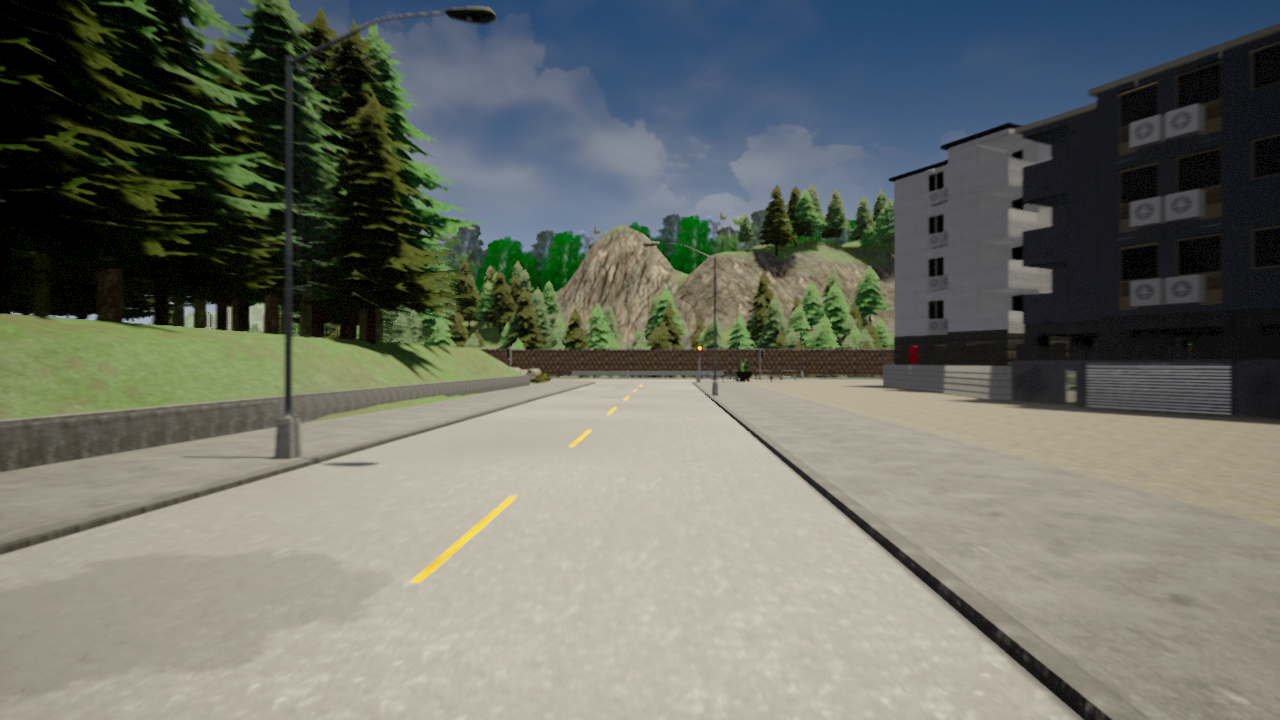red: (696, 345, 704, 360)
